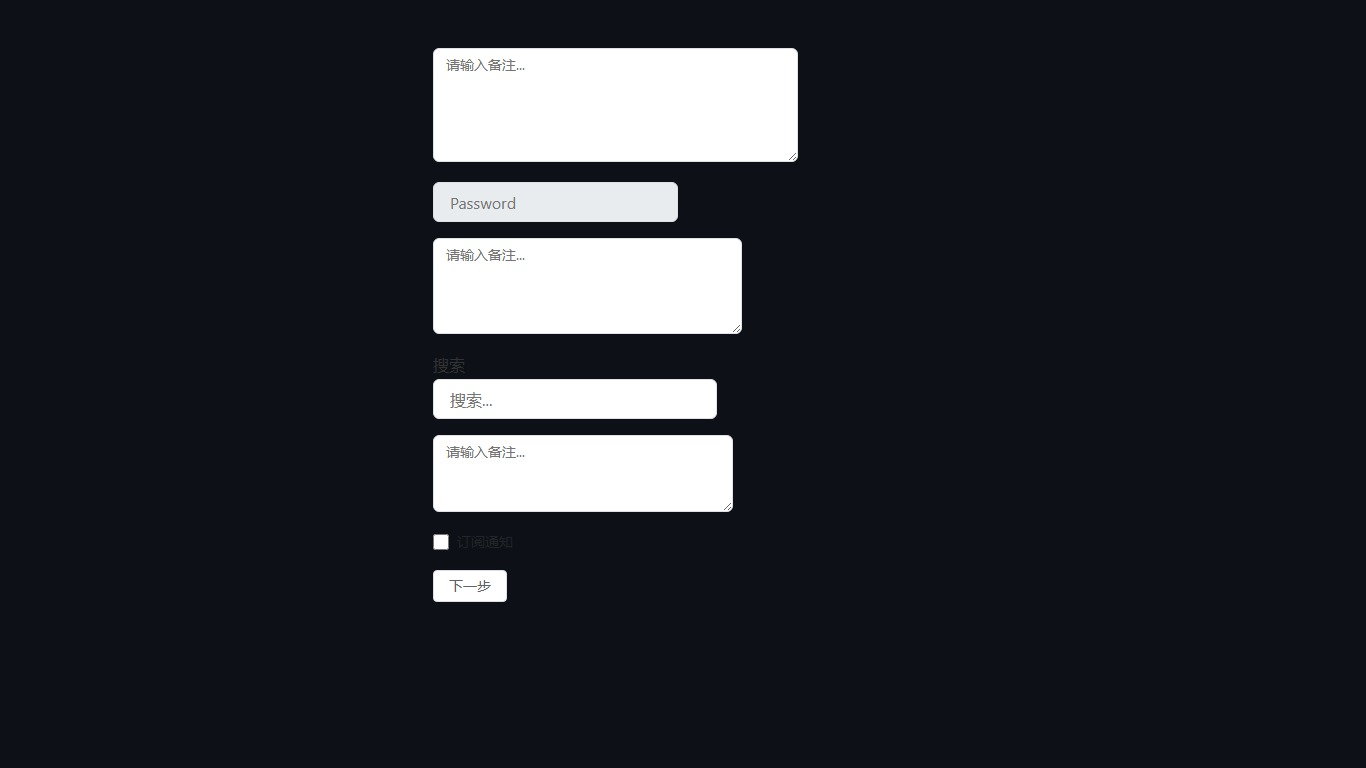button: (433, 570, 507, 602)
checkbox: (433, 534, 449, 549)
icon: (457, 532, 513, 551)
input: (433, 379, 717, 419), (433, 182, 678, 222)
radio: (433, 532, 513, 551)
textarea: (433, 48, 798, 162), (433, 238, 742, 334), (433, 435, 733, 512)
